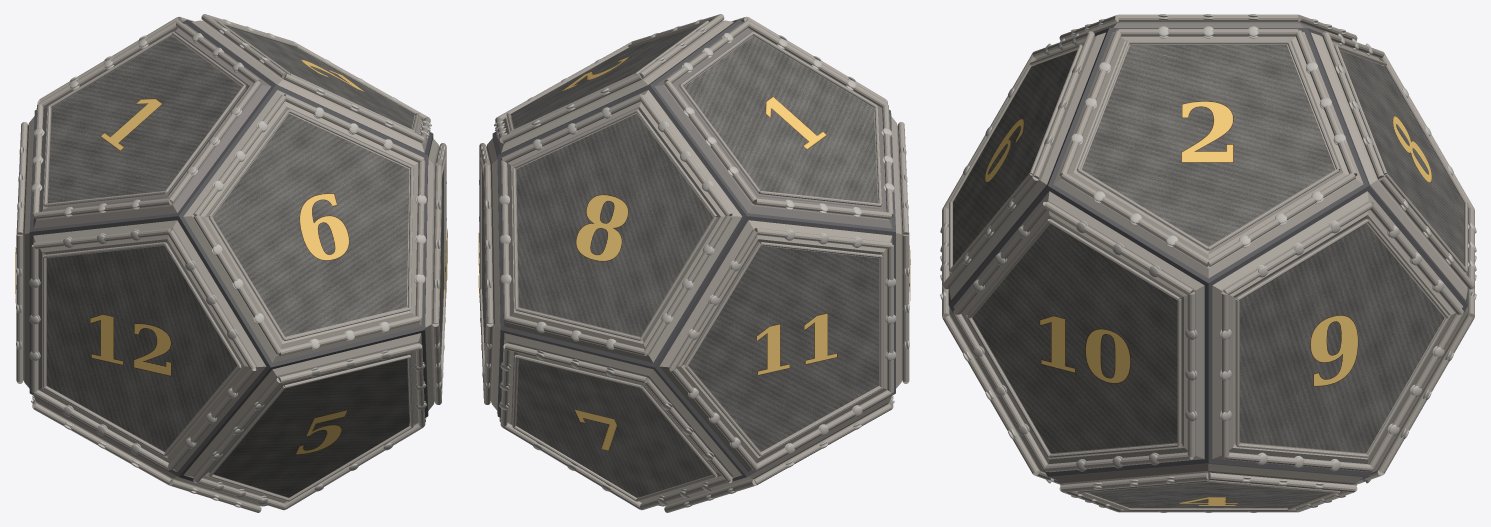
Rendered from knight_armor_d12_verified_gold_numbers.glb.
3 views of the same model, side by side, from view 1: azimuth 30°, elevation 25°; view 2: azimuth 150°, elevation 25°; view 3: azimuth 270°, elevation 25° (orthographic). The views are drawn at different scales.
Visible parts, largest first — view 1: AuthenticSteelSurface_6, AuthenticSteelSurface_12, AuthenticSteelSurface_1, AuthenticSteelSurface_5, solid_d12_core, ForgedPentagonalPlate_6, ForgedPentagonalPlate_12, ForgedPentagonalPlate_1, ForgedPentagonalPlate_5, AuthenticSteelSurface_2, ForgedPentagonalPlate_2, ForgedPentagonalPlate_10 (+46 smaller); view 2: AuthenticSteelSurface_8, AuthenticSteelSurface_11, AuthenticSteelSurface_1, AuthenticSteelSurface_7, solid_d12_core, ForgedPentagonalPlate_8, ForgedPentagonalPlate_11, ForgedPentagonalPlate_1, ForgedPentagonalPlate_7, AuthenticSteelSurface_2, ForgedPentagonalPlate_2, CorrectNumeral_8 (+47 smaller); view 3: AuthenticSteelSurface_2, AuthenticSteelSurface_9, AuthenticSteelSurface_10, solid_d12_core, ForgedPentagonalPlate_2, ForgedPentagonalPlate_9, ForgedPentagonalPlate_10, AuthenticSteelSurface_6, AuthenticSteelSurface_8, AuthenticSteelSurface_4, ForgedPentagonalPlate_6, ForgedPentagonalPlate_8 (+42 smaller).
Part boxes in pixels (x1,y1,x2,y2): AuthenticSteelSurface_6: (212,113,409,336); AuthenticSteelSurface_12: (47,246,237,451); AuthenticSteelSurface_1: (48,36,241,203); AuthenticSteelSurface_5: (213,359,409,497); solid_d12_core: (29,20,433,481); ForgedPentagonalPlate_6: (183,90,424,362); ForgedPentagonalPlate_12: (33,220,266,472); ForgedPentagonalPlate_1: (33,23,271,228); ForgedPentagonalPlate_5: (183,333,421,502); AuthenticSteelSurface_2: (226,26,414,128); ForgedPentagonalPlate_2: (192,20,429,152); ForgedPentagonalPlate_10: (425,138,439,410); AuthenticSteelSurface_8: (516,114,713,336); AuthenticSteelSurface_11: (688,246,878,451); AuthenticSteelSurface_1: (684,36,877,203); AuthenticSteelSurface_7: (516,359,712,497); solid_d12_core: (492,20,895,481); ForgedPentagonalPlate_8: (501,90,742,362); ForgedPentagonalPlate_11: (659,220,892,472); ForgedPentagonalPlate_1: (654,23,892,228); ForgedPentagonalPlate_7: (504,333,741,502); AuthenticSteelSurface_2: (511,26,698,128); ForgedPentagonalPlate_2: (496,20,733,152); CorrectNumeral_8: (576,194,628,261); AuthenticSteelSurface_2: (1082,45,1334,246); AuthenticSteelSurface_9: (1239,223,1444,453); AuthenticSteelSurface_10: (972,223,1177,453); solid_d12_core: (948,28,1468,479); ForgedPentagonalPlate_2: (1053,32,1363,278); ForgedPentagonalPlate_9: (1212,191,1463,472); ForgedPentagonalPlate_10: (953,191,1204,472); AuthenticSteelSurface_6: (953,50,1077,264); AuthenticSteelSurface_8: (1339,50,1463,264); AuthenticSteelSurface_4: (1087,482,1329,508); ForgedPentagonalPlate_6: (949,32,1105,299); ForgedPentagonalPlate_8: (1311,32,1467,299).
Size of the model in its own units: 3.08 by 3.08 by 3.08.
17 materials, 13 textured.
